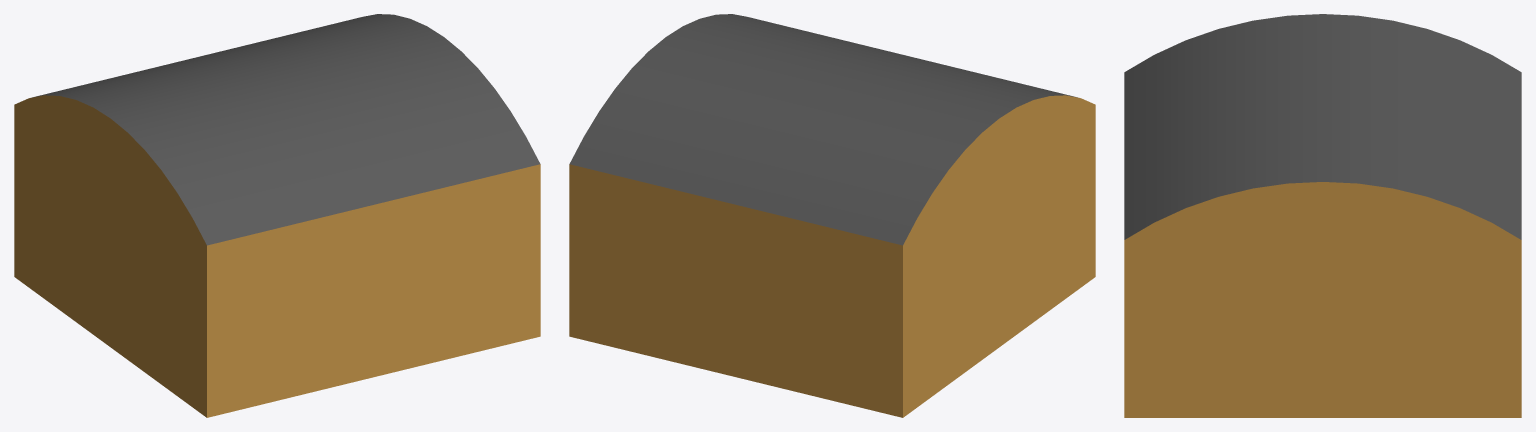
Rendered from Skate_Block_Wave_Low_01.FBX.
The picture shows the model from 3 angles, left to right: view 1: azimuth 30°, elevation 25°; view 2: azimuth 150°, elevation 25°; view 3: azimuth 270°, elevation 25°; orthographic projection. The views are drawn at different scales.
Visible parts, largest first — view 1: Skate_Block_Wave_Low_01; view 2: Skate_Block_Wave_Low_01; view 3: Skate_Block_Wave_Low_01.
Part boxes in pixels (left/top/right/bottom): Skate_Block_Wave_Low_01: left=14, top=14, right=540, bottom=417; Skate_Block_Wave_Low_01: left=569, top=14, right=1095, bottom=417; Skate_Block_Wave_Low_01: left=1124, top=14, right=1521, bottom=417.
Bounding box in the file's own units: 3 × 1.97 × 3.
